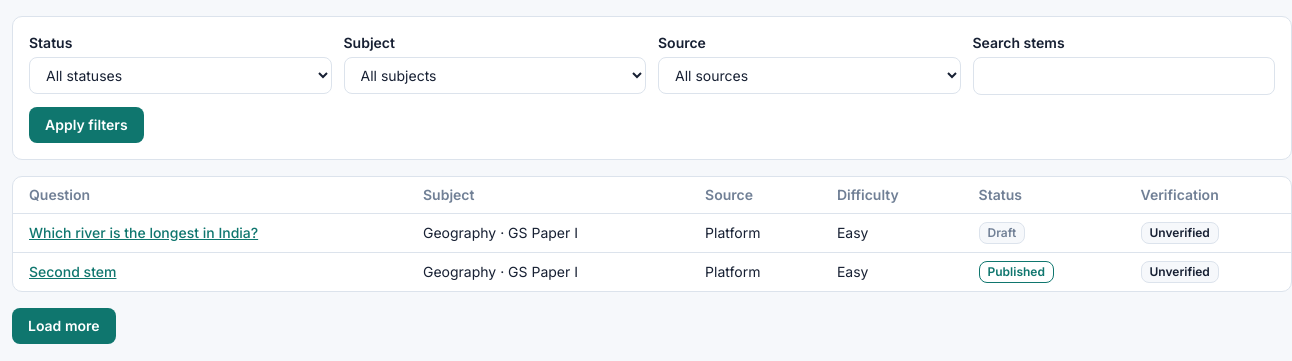
Scenario: QuestionsTable › applies filters through the query string and replaces the list
Select "Draft" in the dropdown labelled "Status" at {"x": 180, "y": 76}, box 29,57 -> 332,94
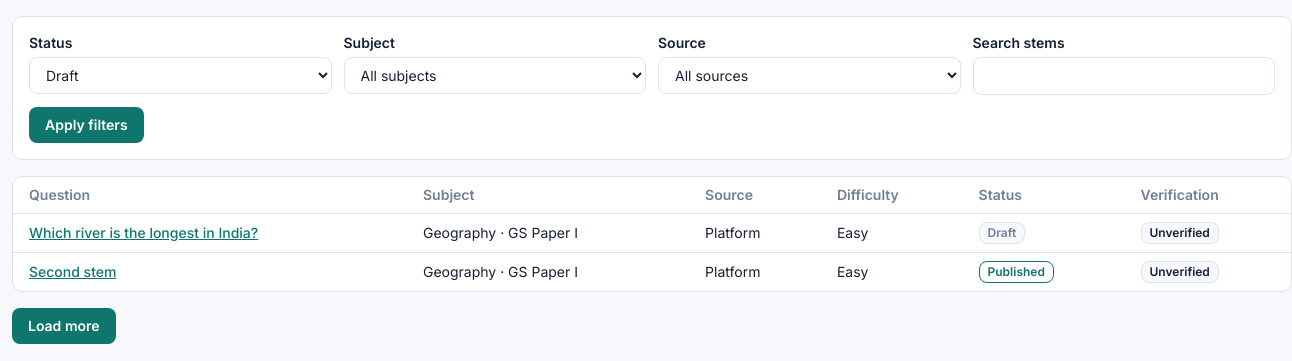
Select "Previous year" in the dropdown labelled "Source" at {"x": 809, "y": 76}, box 658,57 -> 960,94
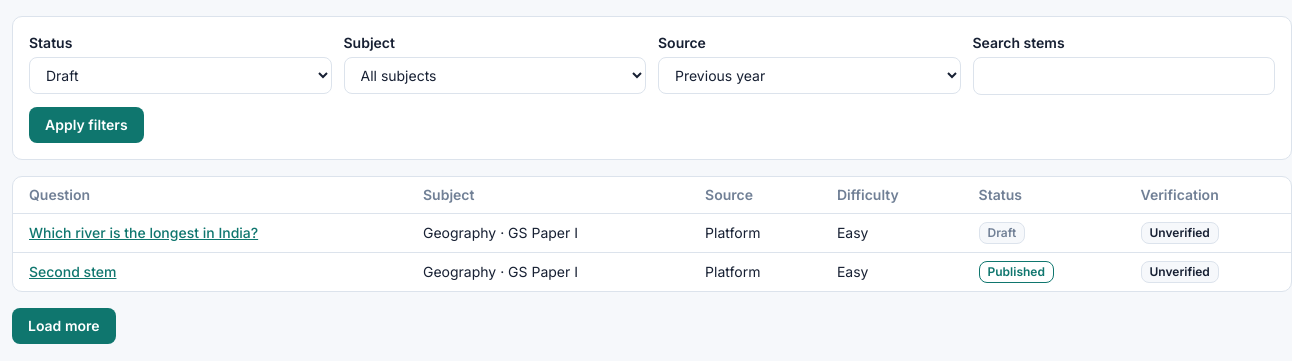
Select "Geography · GS Paper I" in the dropdown labelled "Subject" at {"x": 495, "y": 76}, box 344,57 -> 646,94
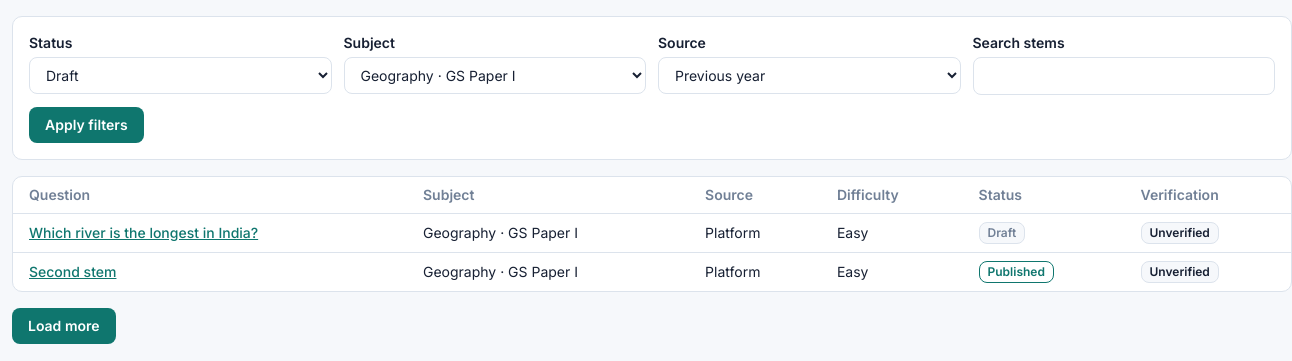
Type "river" into the field labelled "Search stems" at {"x": 1124, "y": 76}, box 972,57 -> 1275,95
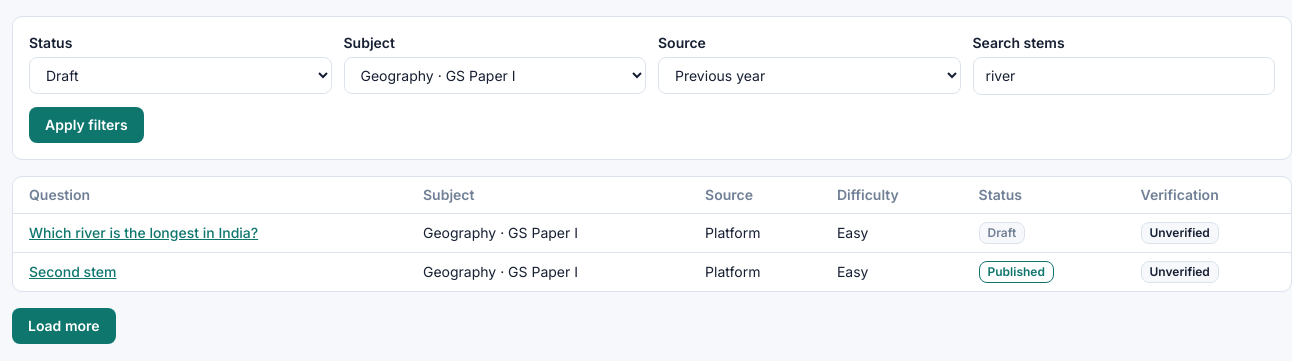
Click the button "Apply filters" at {"x": 86, "y": 125}, box 29,107 -> 144,143
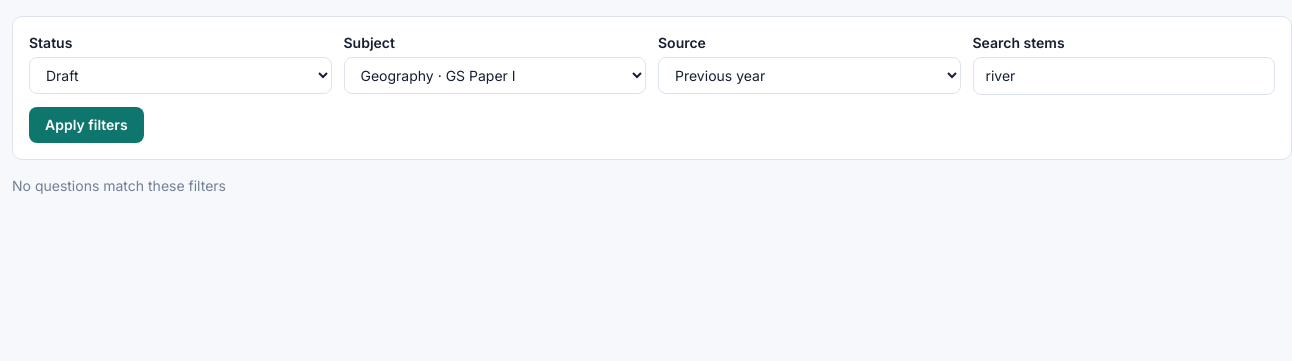
Check: the text "No questions match these filters" is shown, box 12,177 -> 226,194
